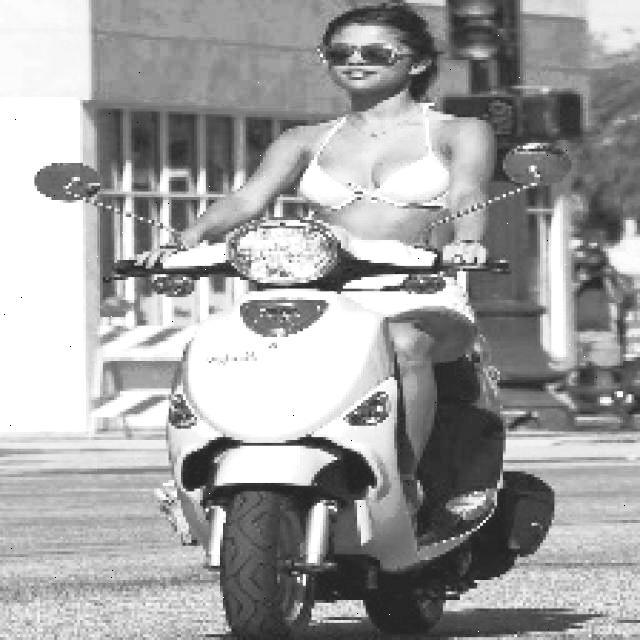Bike: (165, 239, 532, 629)
